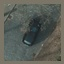car: (22, 18, 42, 46)
